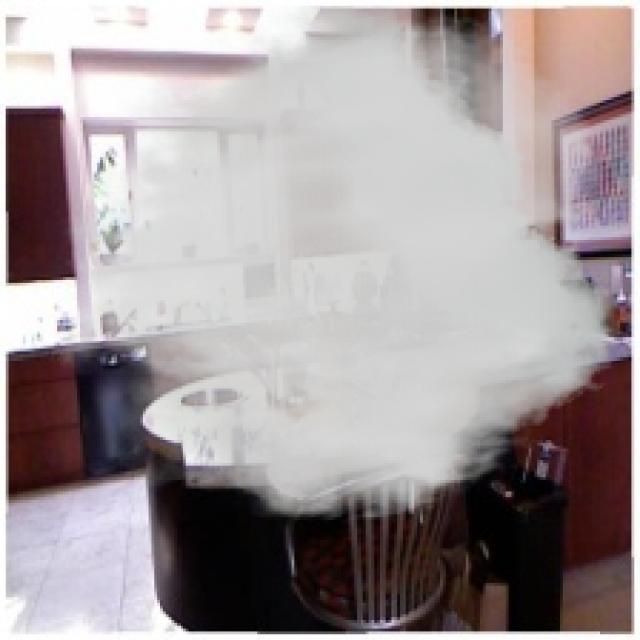Smoke: (49, 6, 612, 526)
